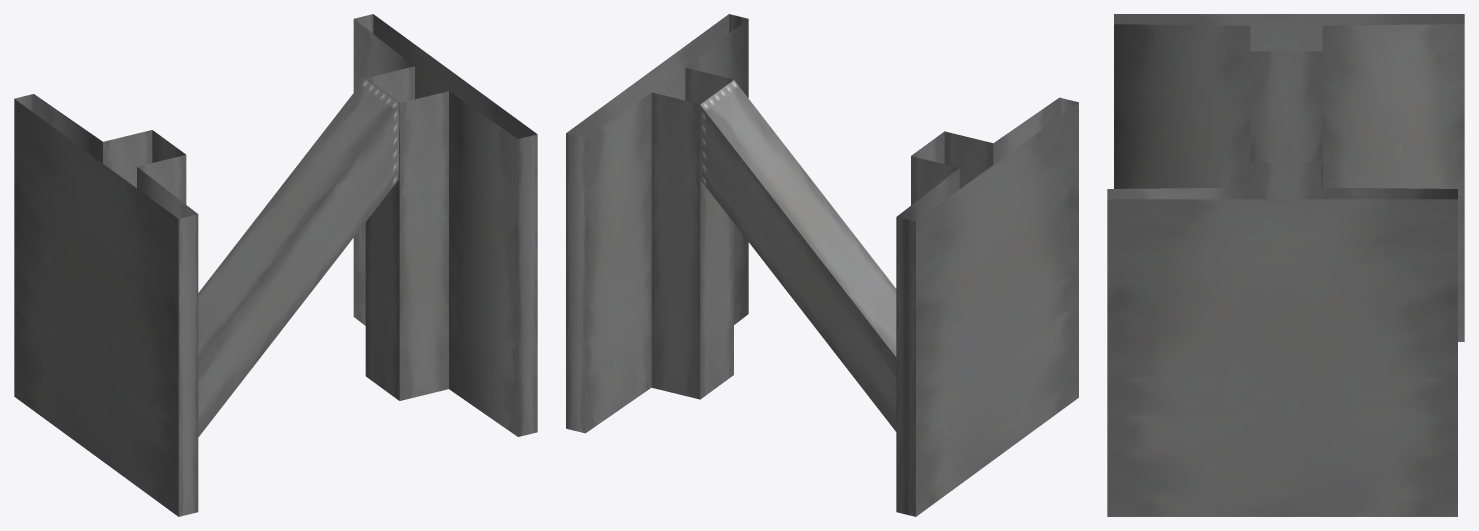
Rendered from frame.FBX.
3 renders of one model, left to right at view 1: azimuth 30°, elevation 25°; view 2: azimuth 150°, elevation 25°; view 3: azimuth 270°, elevation 25°, orthographic. The views are drawn at different scales.
Visible parts, largest first — view 1: Box004; view 2: Box004; view 3: Box004.
Part boxes in pixels (x1,y1,x2,y2): Box004: (14, 14, 537, 516); Box004: (566, 14, 1078, 516); Box004: (1107, 14, 1464, 516).
Bounding box in the file's own units: 4.17 × 3.34 × 3.39.
